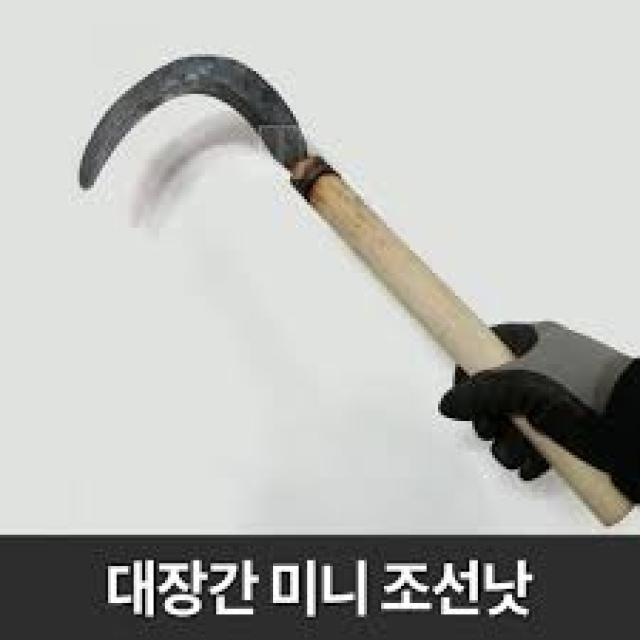sickle: (35, 23, 640, 575)
